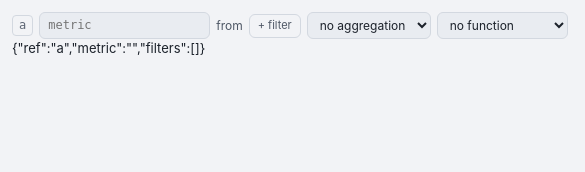
Test: QueryRow › selecting a metric suggestion fills the input and closes the list
Click the dropdown labelled "metric" at (125, 26), box [39,12,210,39]
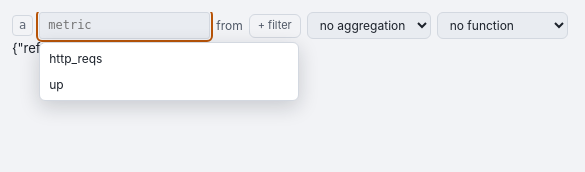
Click the option "http_reqs" at (76, 59), box [49,51,102,66]
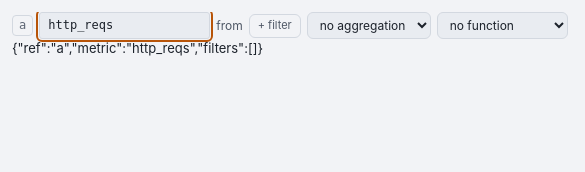
Result: the dropdown named "metric" holds "http_reqs" at [39,12,210,39]
Result: the list is gone
